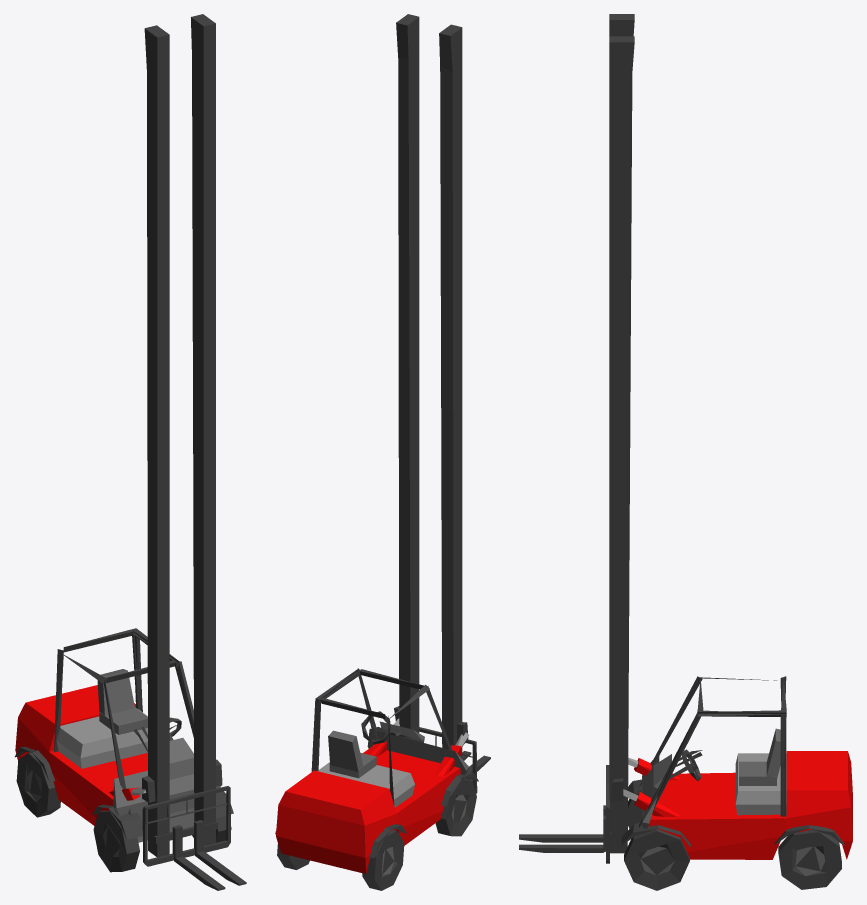
Rendered from ForkliftFBX.fbx.
The picture shows the model from 3 angles, left to right: view 1: azimuth 30°, elevation 25°; view 2: azimuth 150°, elevation 25°; view 3: azimuth 270°, elevation 25°; orthographic projection. The views are drawn at different scales.
Visible parts, largest first — view 1: Forklift, Lift; view 2: Forklift, Lift; view 3: Forklift, Lift.
Boxes of the visible parts, x1,y1,x2,y2 form: Forklift: (15, 14, 233, 872); Lift: (142, 786, 246, 890); Forklift: (275, 14, 478, 890); Lift: (419, 727, 490, 793); Forklift: (609, 14, 852, 890); Lift: (519, 765, 611, 863).
Bounding box in the file's own units: 84.61 × 640 × 231.
